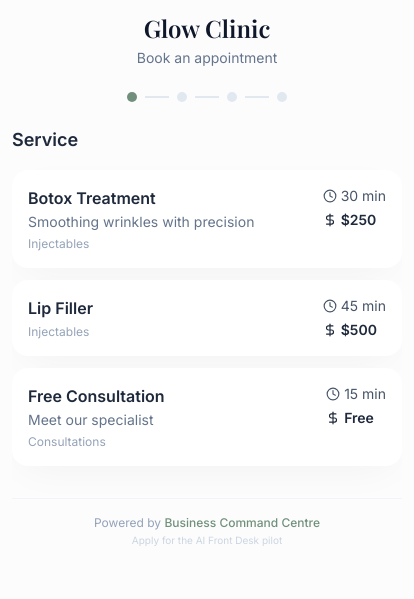
Scenario: BookingPortalPage › Step 2: Date & Time Selection › shows no availability message when no slots
This screenshot has width=414, height=599.
Click the text "Botox Treatment": point(92, 198) [28, 188, 156, 208]
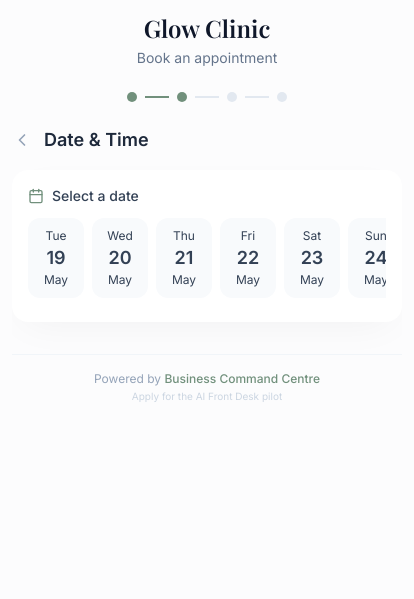
Click the radio button labelled "Tue 19 May": point(56, 258) [28, 218, 84, 298]
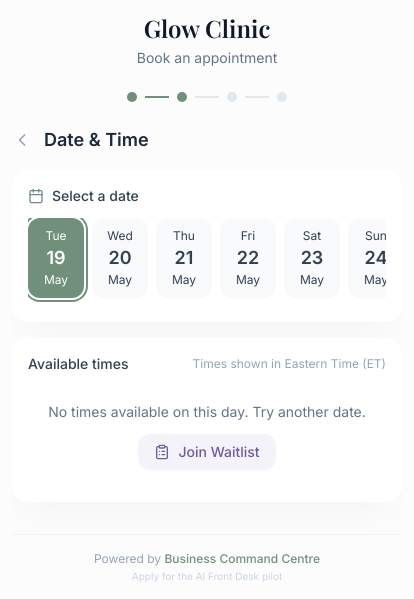
Now the text "No times available on this day. Try another date." is shown, box [28, 402, 386, 422]
